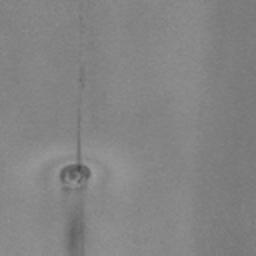Slag inclusion: (60, 110, 92, 188), (68, 200, 86, 256), (78, 63, 84, 92)
